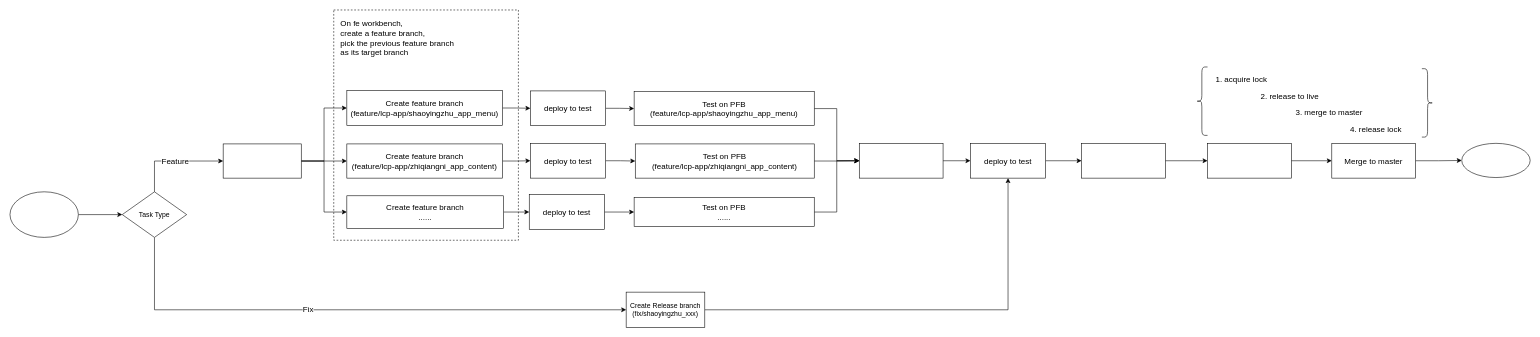
Image size: 1540x337. Some labels were removed from this diagram. Here are the shapes that lost their labels. From the top down, the centre of each, then its label:
At [262,160]: "Create Release branch (feature/lcp-app)".
At [901,160]: "Merge to release branch".
At [1123,160]: "Test on PFB (feature/lcp-app)".
At [1249,160]: "deploy to live".
At [1495,160]: "End".
At [43,214]: "Start".
